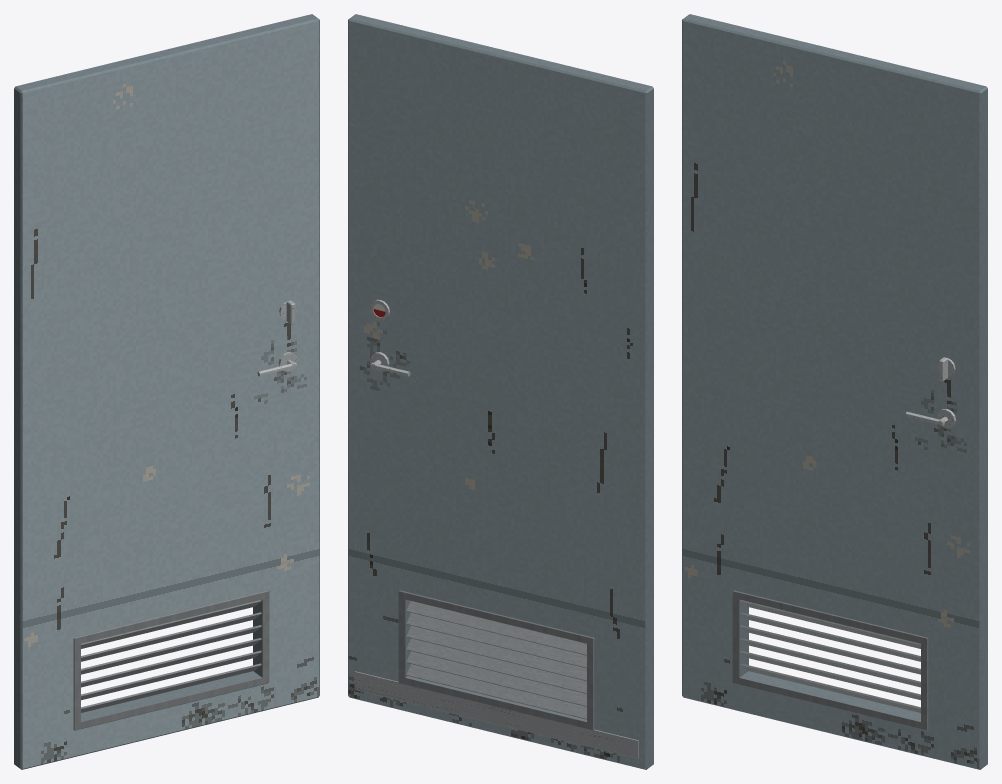
The model's file is door_wc_3.glb.
The picture shows the model from 3 angles, left to right: view 1: azimuth 30°, elevation 25°; view 2: azimuth 150°, elevation 25°; view 3: azimuth 330°, elevation 25°; orthographic projection.
Parts seen in each view (by area): view 1: leaf_body, grille_slats, grille_frame_front; view 2: leaf_body, grille_slats, kick_plate, grille_frame_back; view 3: leaf_body, grille_slats, grille_frame_front.
Boxes of the visible parts, box(x1,y1,x2,y2) form: leaf_body: box(14, 14, 319, 769); grille_slats: box(81, 600, 261, 712); grille_frame_front: box(73, 590, 269, 730); leaf_body: box(348, 14, 653, 769); grille_slats: box(406, 601, 586, 719); kick_plate: box(354, 671, 638, 758); grille_frame_back: box(398, 590, 594, 730); leaf_body: box(682, 14, 987, 769); grille_slats: box(740, 600, 920, 712); grille_frame_front: box(732, 590, 928, 730).
Bounding box in the file's own units: 0.95 × 2.06 × 0.1217.
Materials: 1 (1 with a texture image).
